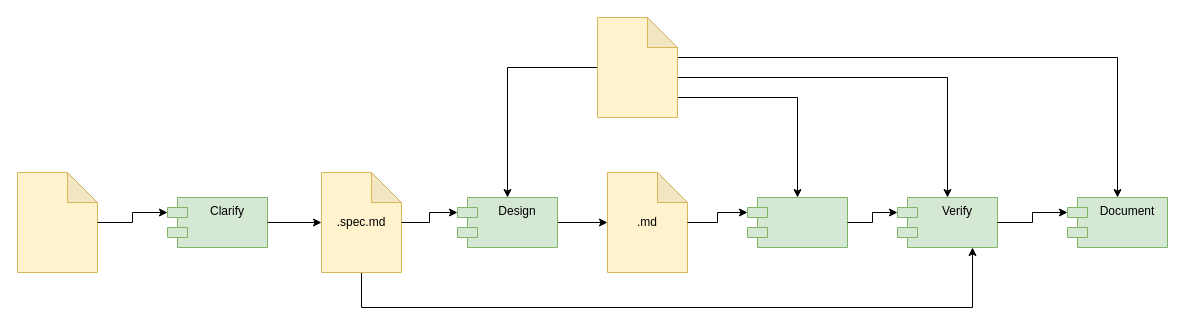
The diagram is 1185 pixels wide and 333 high, and some of its shapes have lost their labels. Here are the shapes that lost their labels. From the top down, the box of each, then its label:
(596, 16, 678, 118): Codebase
(16, 172, 98, 272): draft.md
(746, 196, 848, 248): Implement
